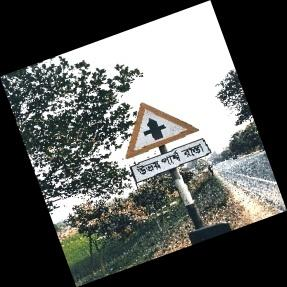Crossroad: (123, 103, 210, 202)
